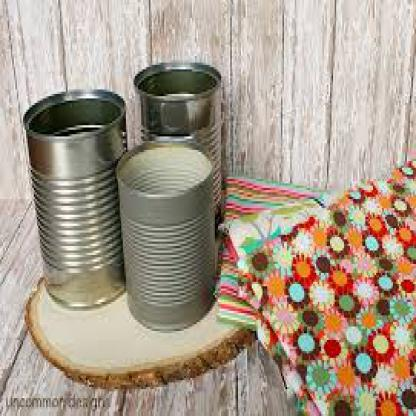METAL: (21, 87, 126, 309), (115, 139, 215, 333), (132, 60, 221, 230)
